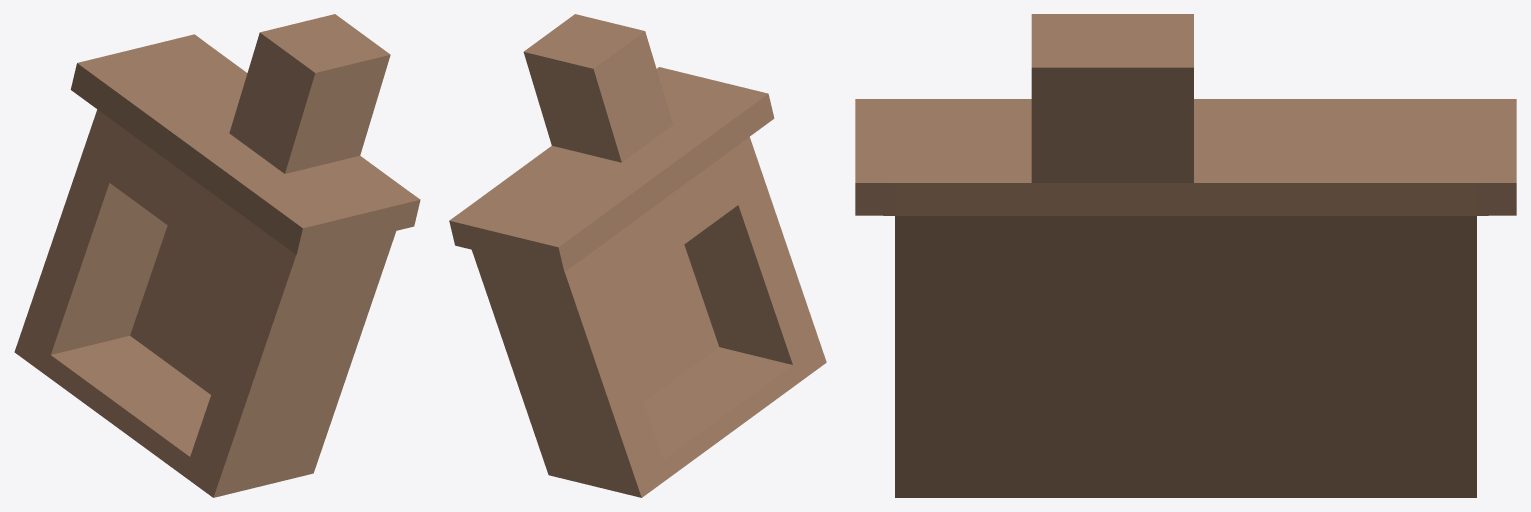
Rendered from SM_FirePlace_002.fbx.
3 views of the same model, side by side, from view 1: azimuth 30°, elevation 25°; view 2: azimuth 150°, elevation 25°; view 3: azimuth 270°, elevation 25° (orthographic). The views are drawn at different scales.
Visible parts, largest first — view 1: Fireplace; view 2: Fireplace; view 3: Fireplace.
Part boxes in pixels (left/top/right/bottom): Fireplace: left=14, top=14, right=420, bottom=497; Fireplace: left=449, top=14, right=826, bottom=497; Fireplace: left=855, top=14, right=1516, bottom=497.
Bounding box in the file's own units: 52.86 × 79.94 × 92.35.
